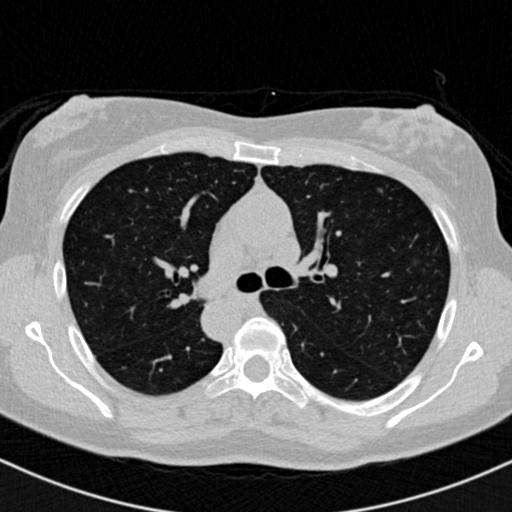nodule: (377, 185, 388, 196)
